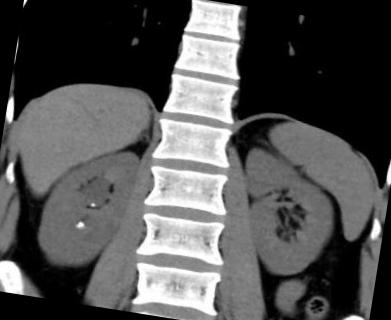Tas_Var: (74, 218, 85, 230), (88, 200, 96, 208)
